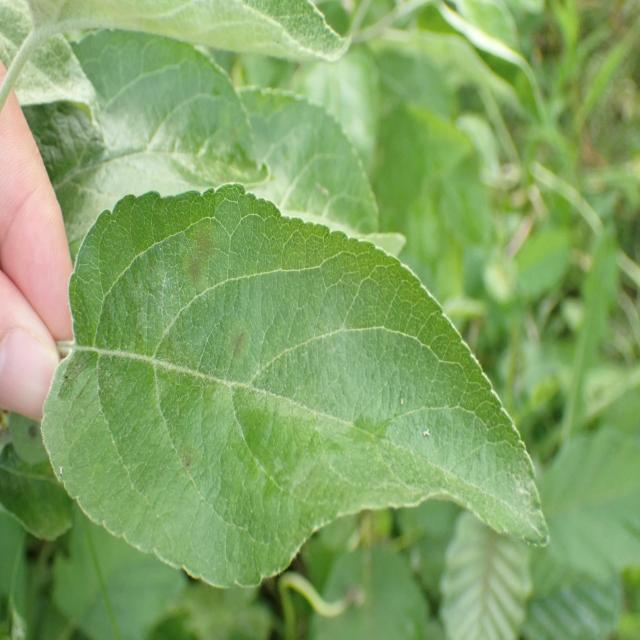scab: (85, 223, 491, 541)
